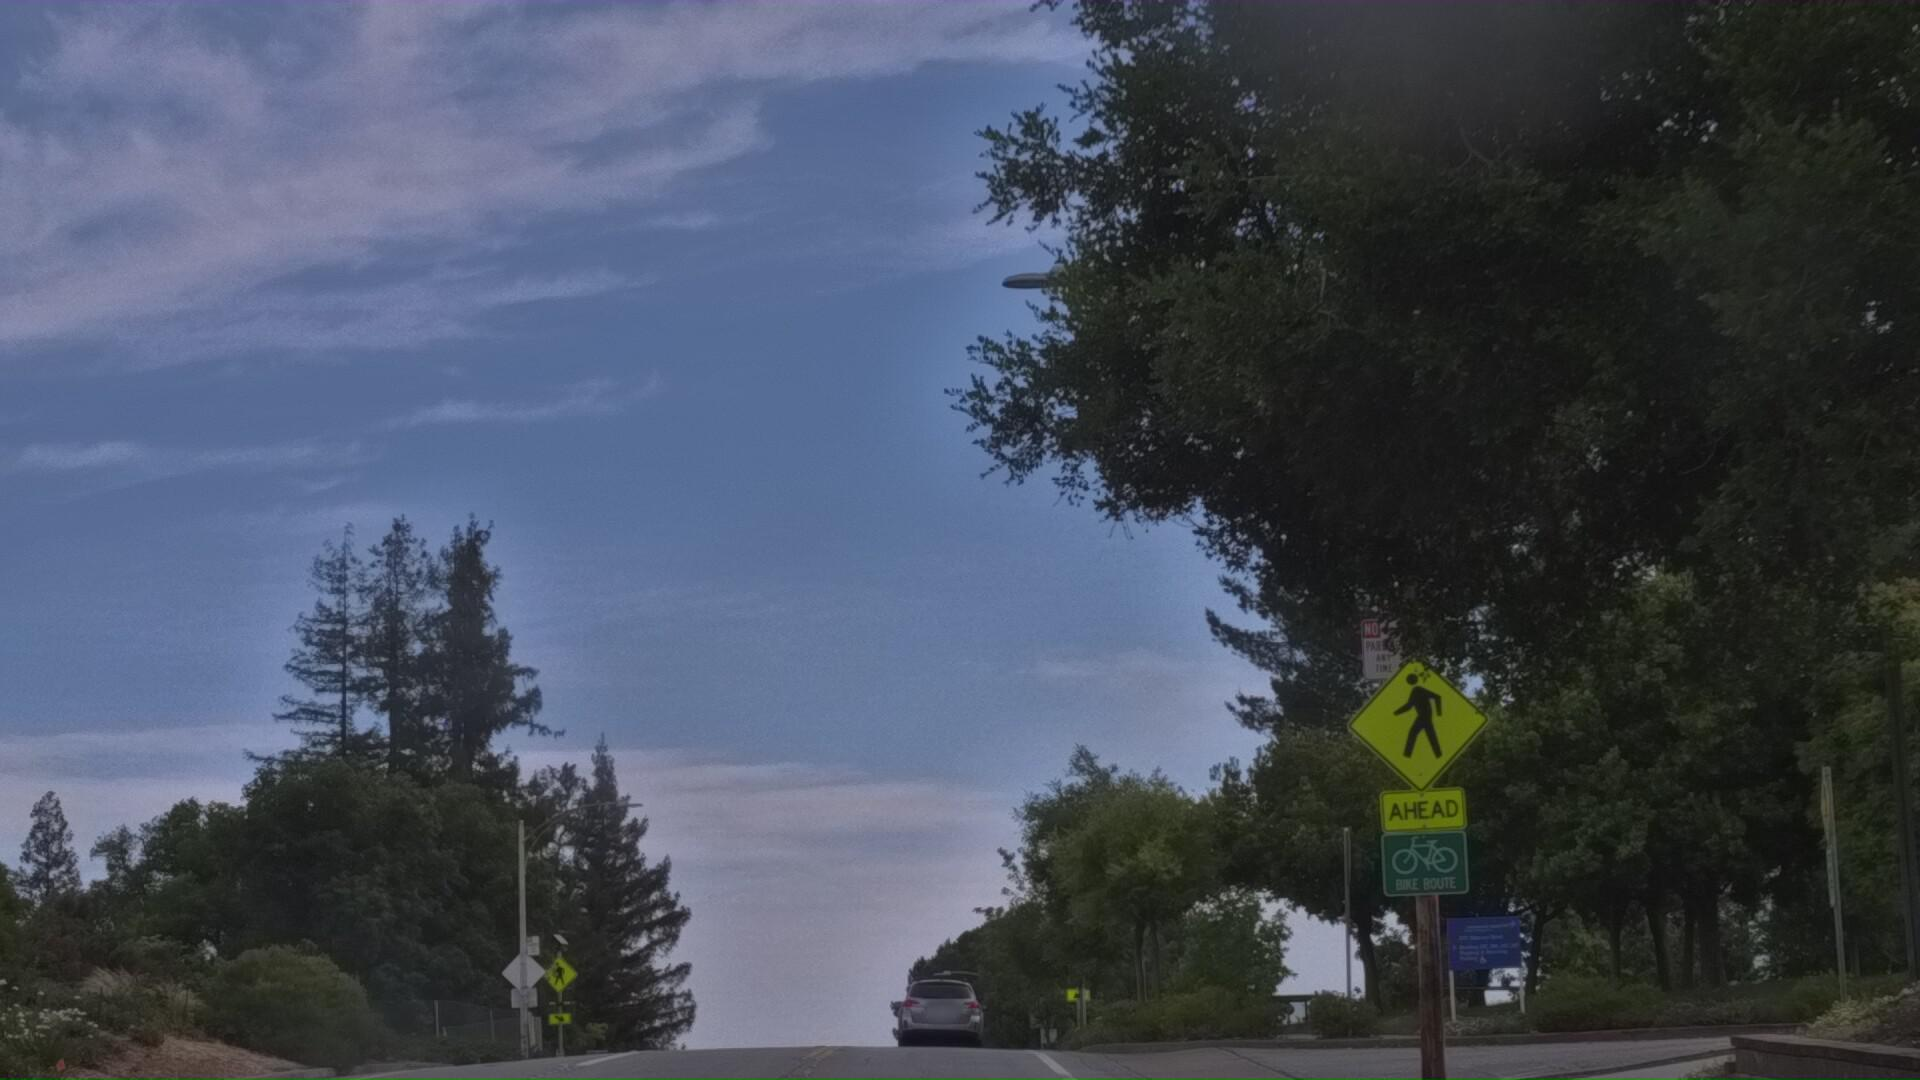car: (891, 971, 996, 1077)
